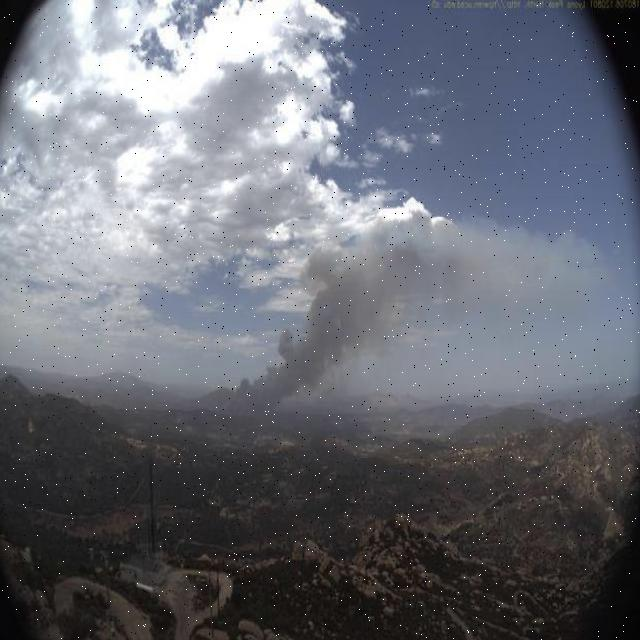smoke: (187, 206, 598, 435)
